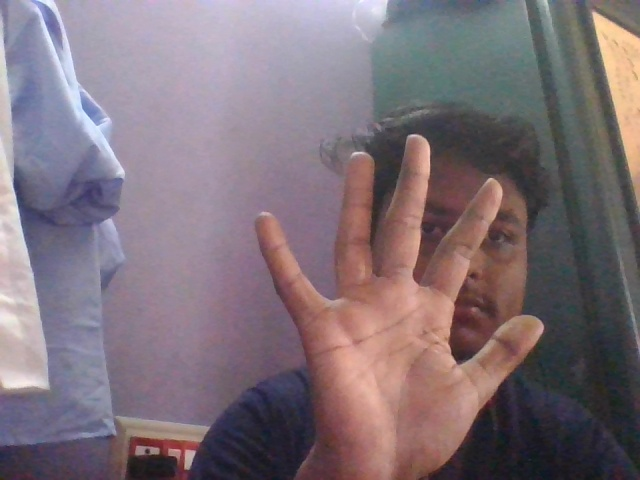hello: (244, 119, 556, 480)
